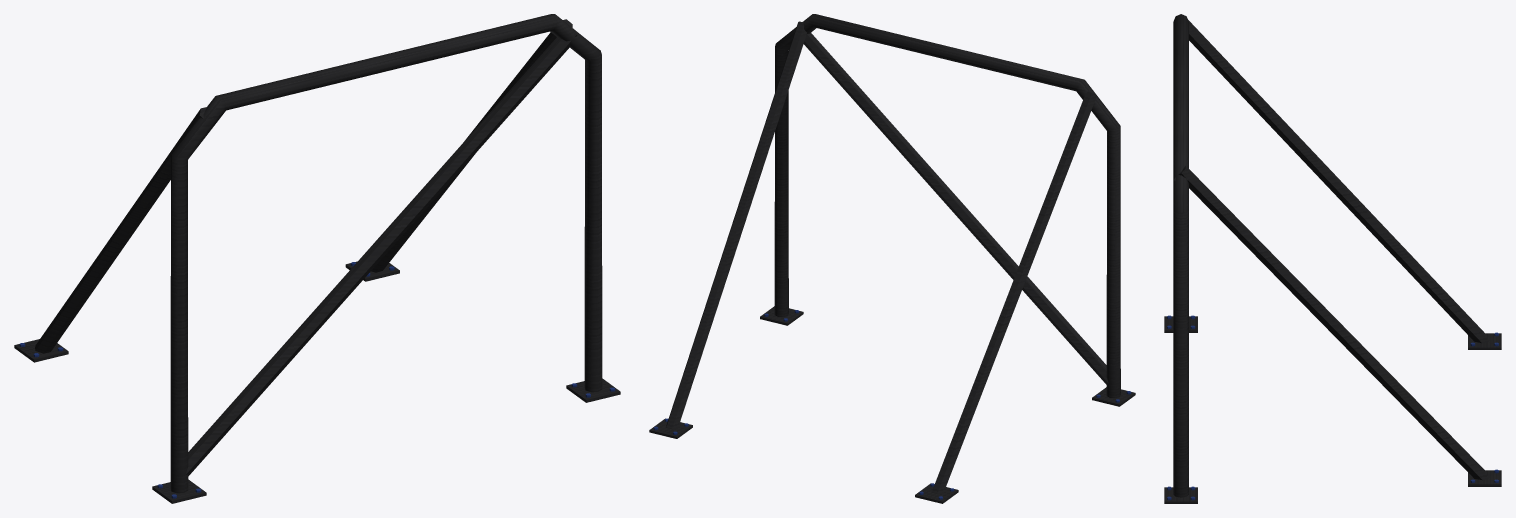
Rendered from gaiola_n2.glb.
The picture shows the model from 3 angles, left to right: view 1: azimuth 30°, elevation 25°; view 2: azimuth 150°, elevation 25°; view 3: azimuth 270°, elevation 25°; orthographic projection. The views are drawn at different scales.
Parts seen in each view (by area): view 1: gaiola_n2; view 2: gaiola_n2; view 3: gaiola_n2.
Part boxes in pixels (box(x1,y1,x2,y2)): gaiola_n2: box(14, 14, 620, 503); gaiola_n2: box(649, 14, 1135, 503); gaiola_n2: box(1164, 14, 1501, 503).
Size of the model in its own units: 1.3 by 1.08 by 1.
Materials: 1 (1 with a texture image).
